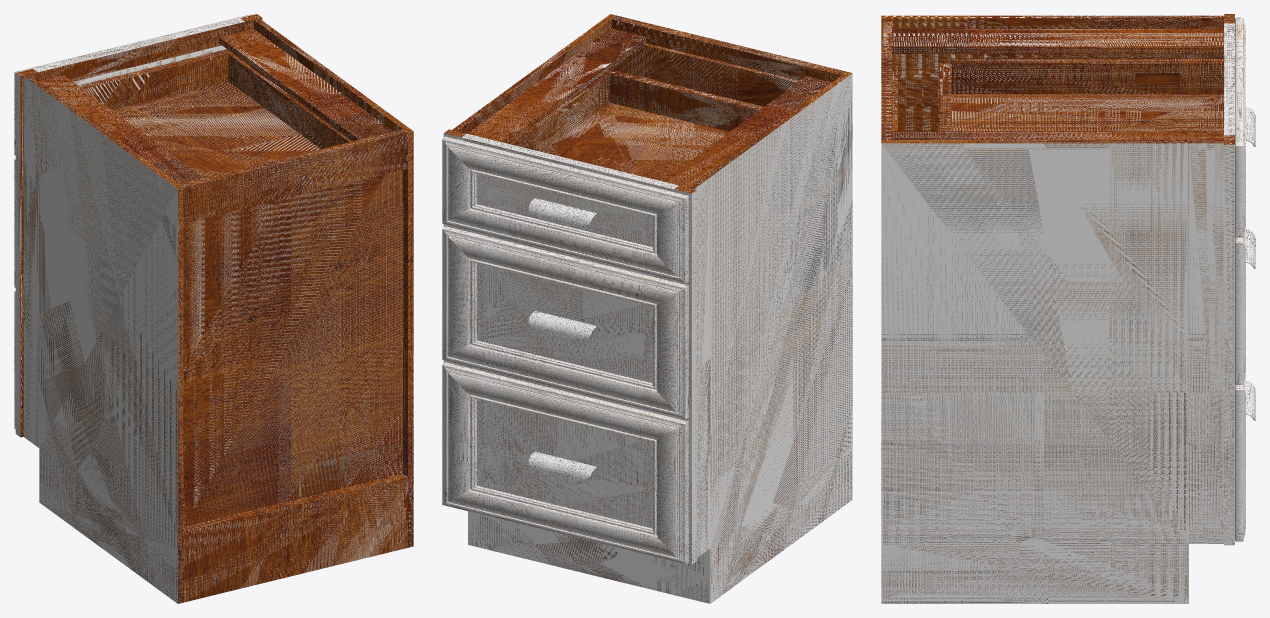
3 renders of one model, left to right at view 1: azimuth 30°, elevation 25°; view 2: azimuth 150°, elevation 25°; view 3: azimuth 270°, elevation 25°, orthographic. The views are drawn at different scales.
Visible parts, largest first — view 1: mesh4_mesh4-geometry, mesh7_mesh7-geometry, mesh12_mesh12-geometry, mesh19_mesh19-geometry, mesh3_mesh3-geometry, mesh8_mesh8-geometry, mesh6_mesh6-geometry, mesh10_mesh10-geometry, mesh14_mesh14-geometry, mesh17_mesh17-geometry, mesh5_mesh5-geometry, mesh2_mesh2-geometry (+4 smaller); view 2: mesh7_mesh7-geometry, mesh29_mesh29-geometry, mesh25_mesh25-geometry, mesh26_mesh26-geometry, mesh8_mesh8-geometry, mesh19_mesh19-geometry, mesh13_mesh13-geometry, mesh28_mesh28-geometry, mesh27_mesh27-geometry, mesh14_mesh14-geometry, mesh4_mesh4-geometry, mesh6_mesh6-geometry (+22 smaller); view 3: mesh10_mesh10-geometry, mesh11_mesh11-geometry, mesh9_mesh9-geometry, mesh19_mesh19-geometry, mesh16_mesh16-geometry, mesh7_mesh7-geometry, mesh15_mesh15-geometry, mesh2_mesh2-geometry, mesh14_mesh14-geometry, mesh27_mesh27-geometry, mesh3_mesh3-geometry, mesh5_mesh5-geometry (+8 smaller).
Boxes of the visible parts, <box> form: mesh4_mesh4-geometry: <box>183,170,402,526</box>; mesh7_mesh7-geometry: <box>39,86,183,549</box>; mesh12_mesh12-geometry: <box>183,473,407,602</box>; mesh19_mesh19-geometry: <box>112,81,320,177</box>; mesh3_mesh3-geometry: <box>179,129,407,223</box>; mesh8_mesh8-geometry: <box>39,448,183,603</box>; mesh6_mesh6-geometry: <box>23,74,44,447</box>; mesh10_mesh10-geometry: <box>269,30,413,493</box>; mesh14_mesh14-geometry: <box>219,29,392,140</box>; mesh17_mesh17-geometry: <box>78,50,228,109</box>; mesh5_mesh5-geometry: <box>33,18,244,81</box>; mesh2_mesh2-geometry: <box>15,14,262,437</box>; mesh7_mesh7-geometry: <box>704,72,852,547</box>; mesh29_mesh29-geometry: <box>488,267,642,523</box>; mesh25_mesh25-geometry: <box>485,237,643,440</box>; mesh26_mesh26-geometry: <box>485,341,642,553</box>; mesh8_mesh8-geometry: <box>704,444,852,603</box>; mesh19_mesh19-geometry: <box>542,102,729,181</box>; mesh13_mesh13-geometry: <box>474,513,704,602</box>; mesh28_mesh28-geometry: <box>642,304,688,535</box>; mesh27_mesh27-geometry: <box>442,257,488,486</box>; mesh14_mesh14-geometry: <box>467,28,646,143</box>; mesh4_mesh4-geometry: <box>611,43,799,106</box>; mesh6_mesh6-geometry: <box>688,176,710,557</box>; mesh10_mesh10-geometry: <box>881,140,1188,543</box>; mesh11_mesh11-geometry: <box>881,544,1188,603</box>; mesh9_mesh9-geometry: <box>1189,140,1223,543</box>; mesh19_mesh19-geometry: <box>951,94,1223,131</box>; mesh16_mesh16-geometry: <box>940,58,1223,93</box>; mesh7_mesh7-geometry: <box>881,15,1188,131</box>; mesh15_mesh15-geometry: <box>892,28,1223,53</box>; mesh2_mesh2-geometry: <box>1224,14,1234,545</box>; mesh14_mesh14-geometry: <box>892,131,1223,139</box>; mesh27_mesh27-geometry: <box>1235,269,1245,510</box>; mesh3_mesh3-geometry: <box>881,18,892,139</box>; mesh5_mesh5-geometry: <box>1224,23,1234,135</box>.
Bounding box in the file's own units: 0.4401 × 0.723 × 0.5325.
